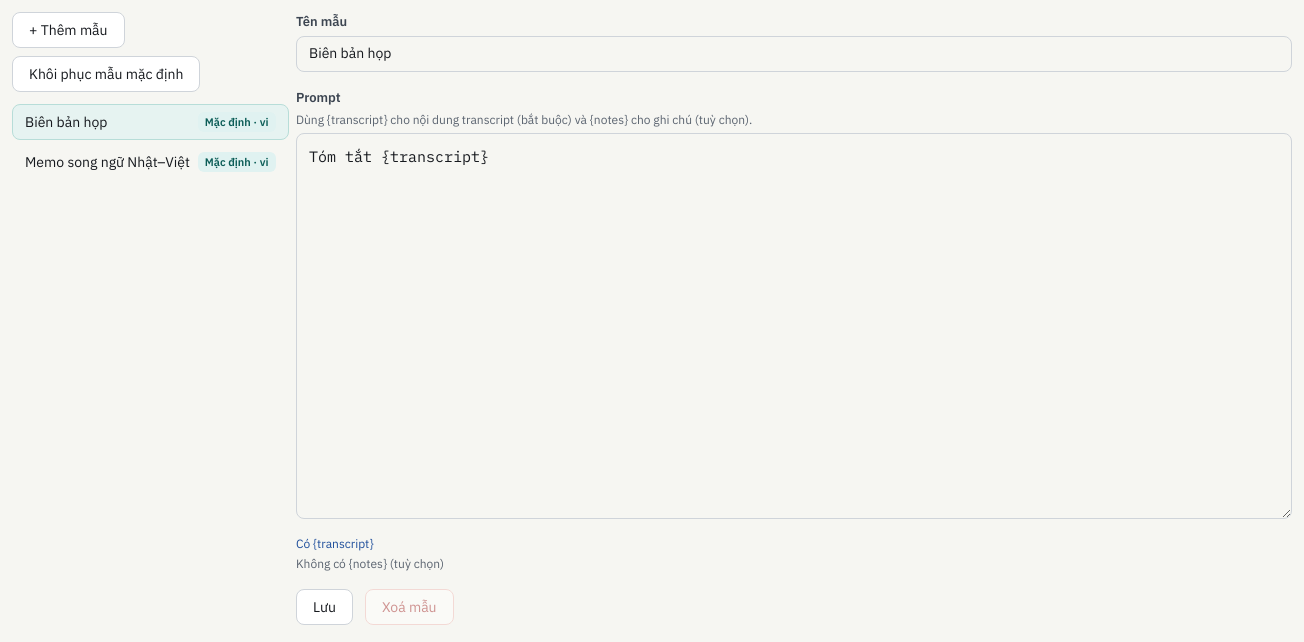
Test case: SettingsMemo › saves an edited default template
Check: the text "Biên bản họp" is shown, box 25,112 -> 107,132
Replace the text in the field labelled "Tên mẫu" with "Tên đã sửa" at {"x": 794, "y": 54}, box 296,36 -> 1292,72
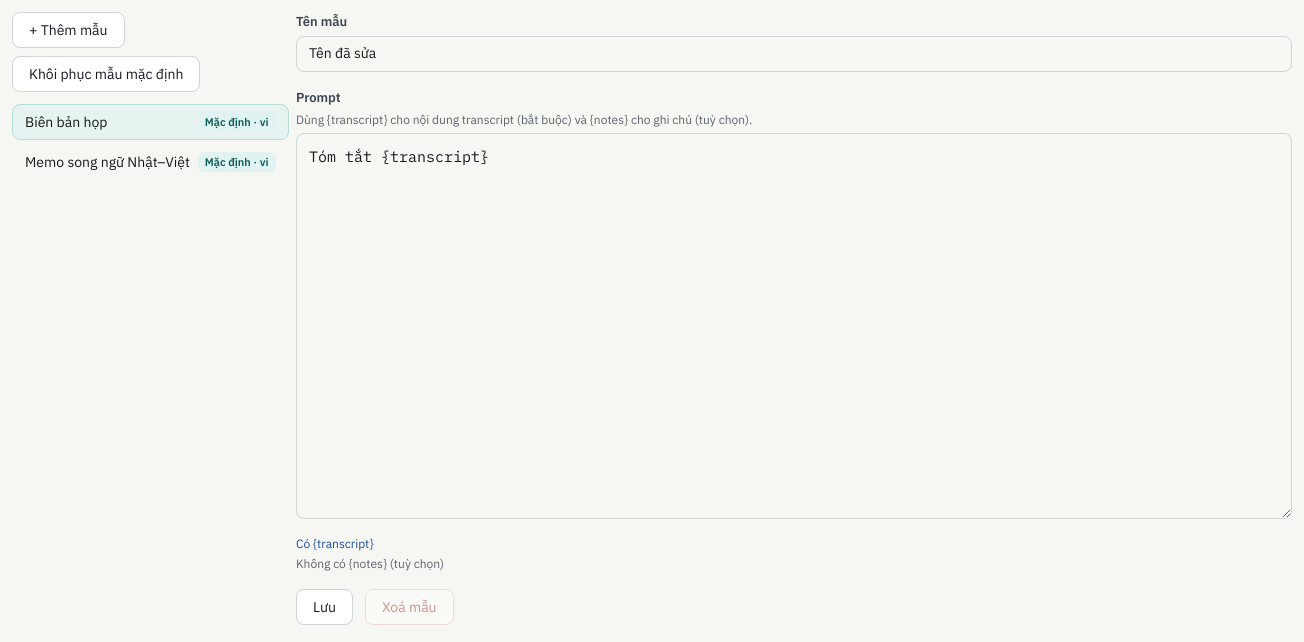
Click the button "Lưu" at {"x": 324, "y": 607}, box 296,589 -> 353,625
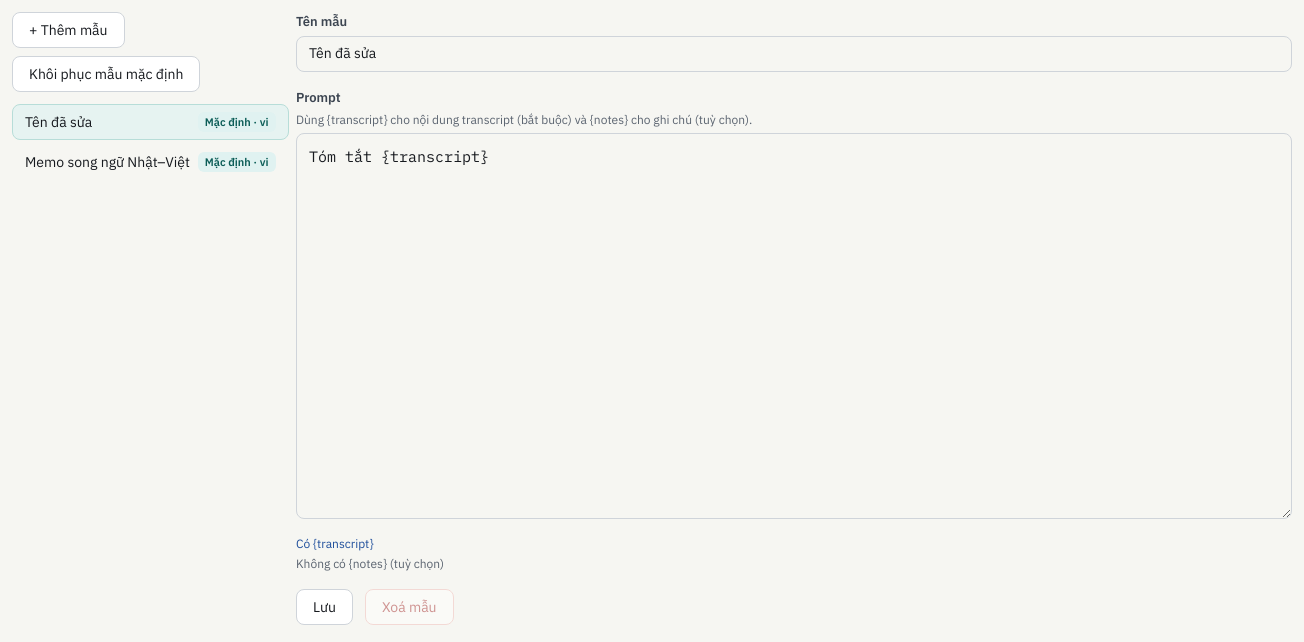
Check: the text "Tên đã sửa" is shown, box 25,112 -> 92,132
